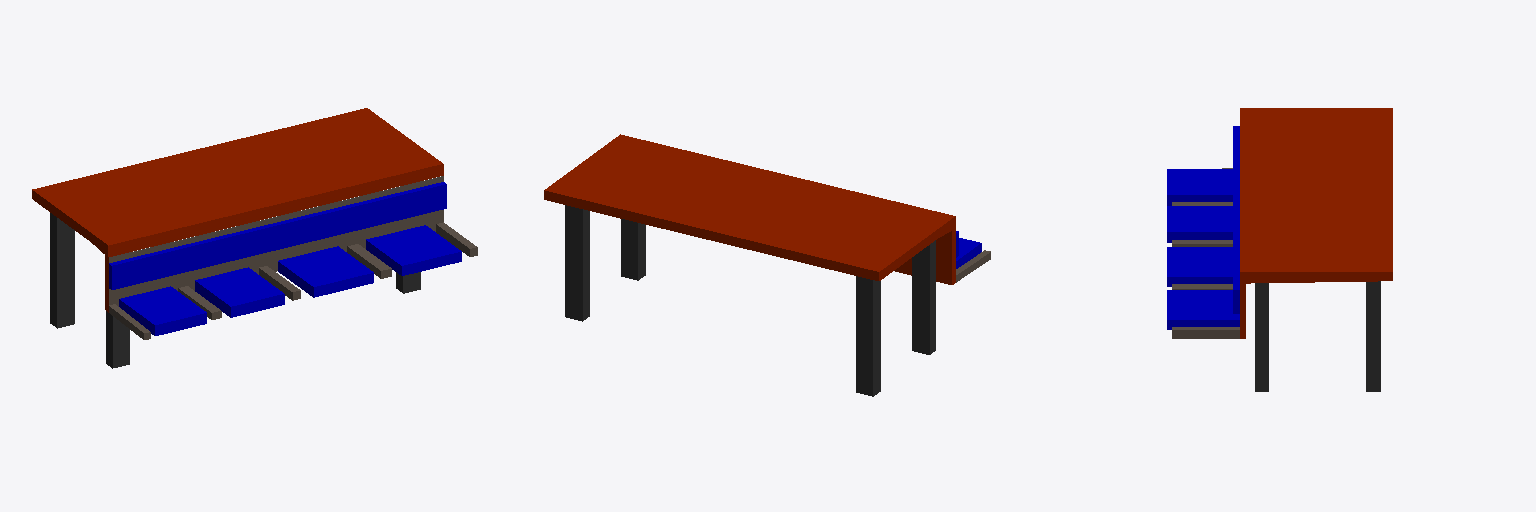
File: school.obj
3 renders of one model, left to right at view 1: azimuth 30°, elevation 25°; view 2: azimuth 150°, elevation 25°; view 3: azimuth 270°, elevation 25°, orthographic.
Visible parts, largest first — view 1: Mesh1 Model; view 2: Mesh1 Model; view 3: Mesh1 Model.
Boxes of the visible parts, x1=… form: Mesh1 Model: x1=32, y1=108, x2=477, y2=368; Mesh1 Model: x1=544, y1=134, x2=990, y2=396; Mesh1 Model: x1=1167, y1=108, x2=1392, y2=391.
Size of the model in its own units: 20.01 by 7.54 by 11.66.